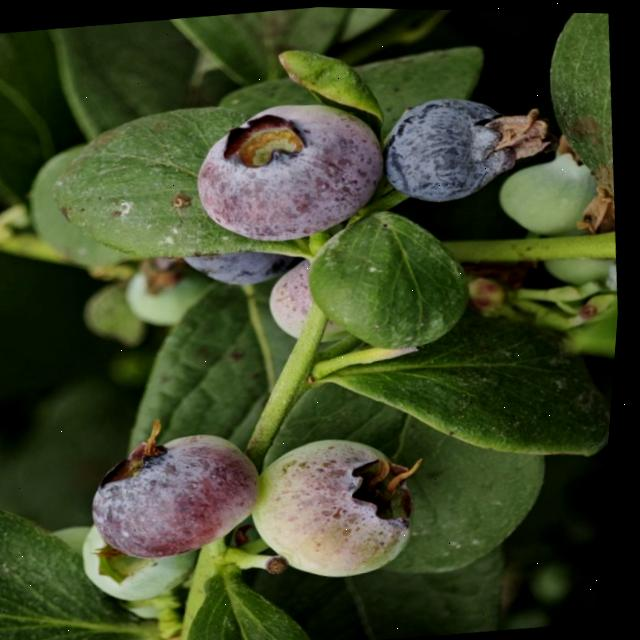RipeBlueBerry: (380, 84, 528, 208)
Semi-RipeBlueBerry: (184, 88, 402, 252), (83, 421, 283, 567)
UnripeBlueBerry: (248, 423, 438, 587)
